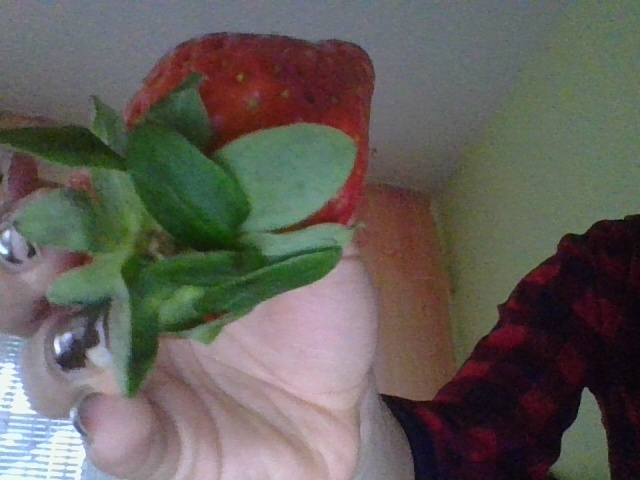ripe: (77, 32, 374, 298)
